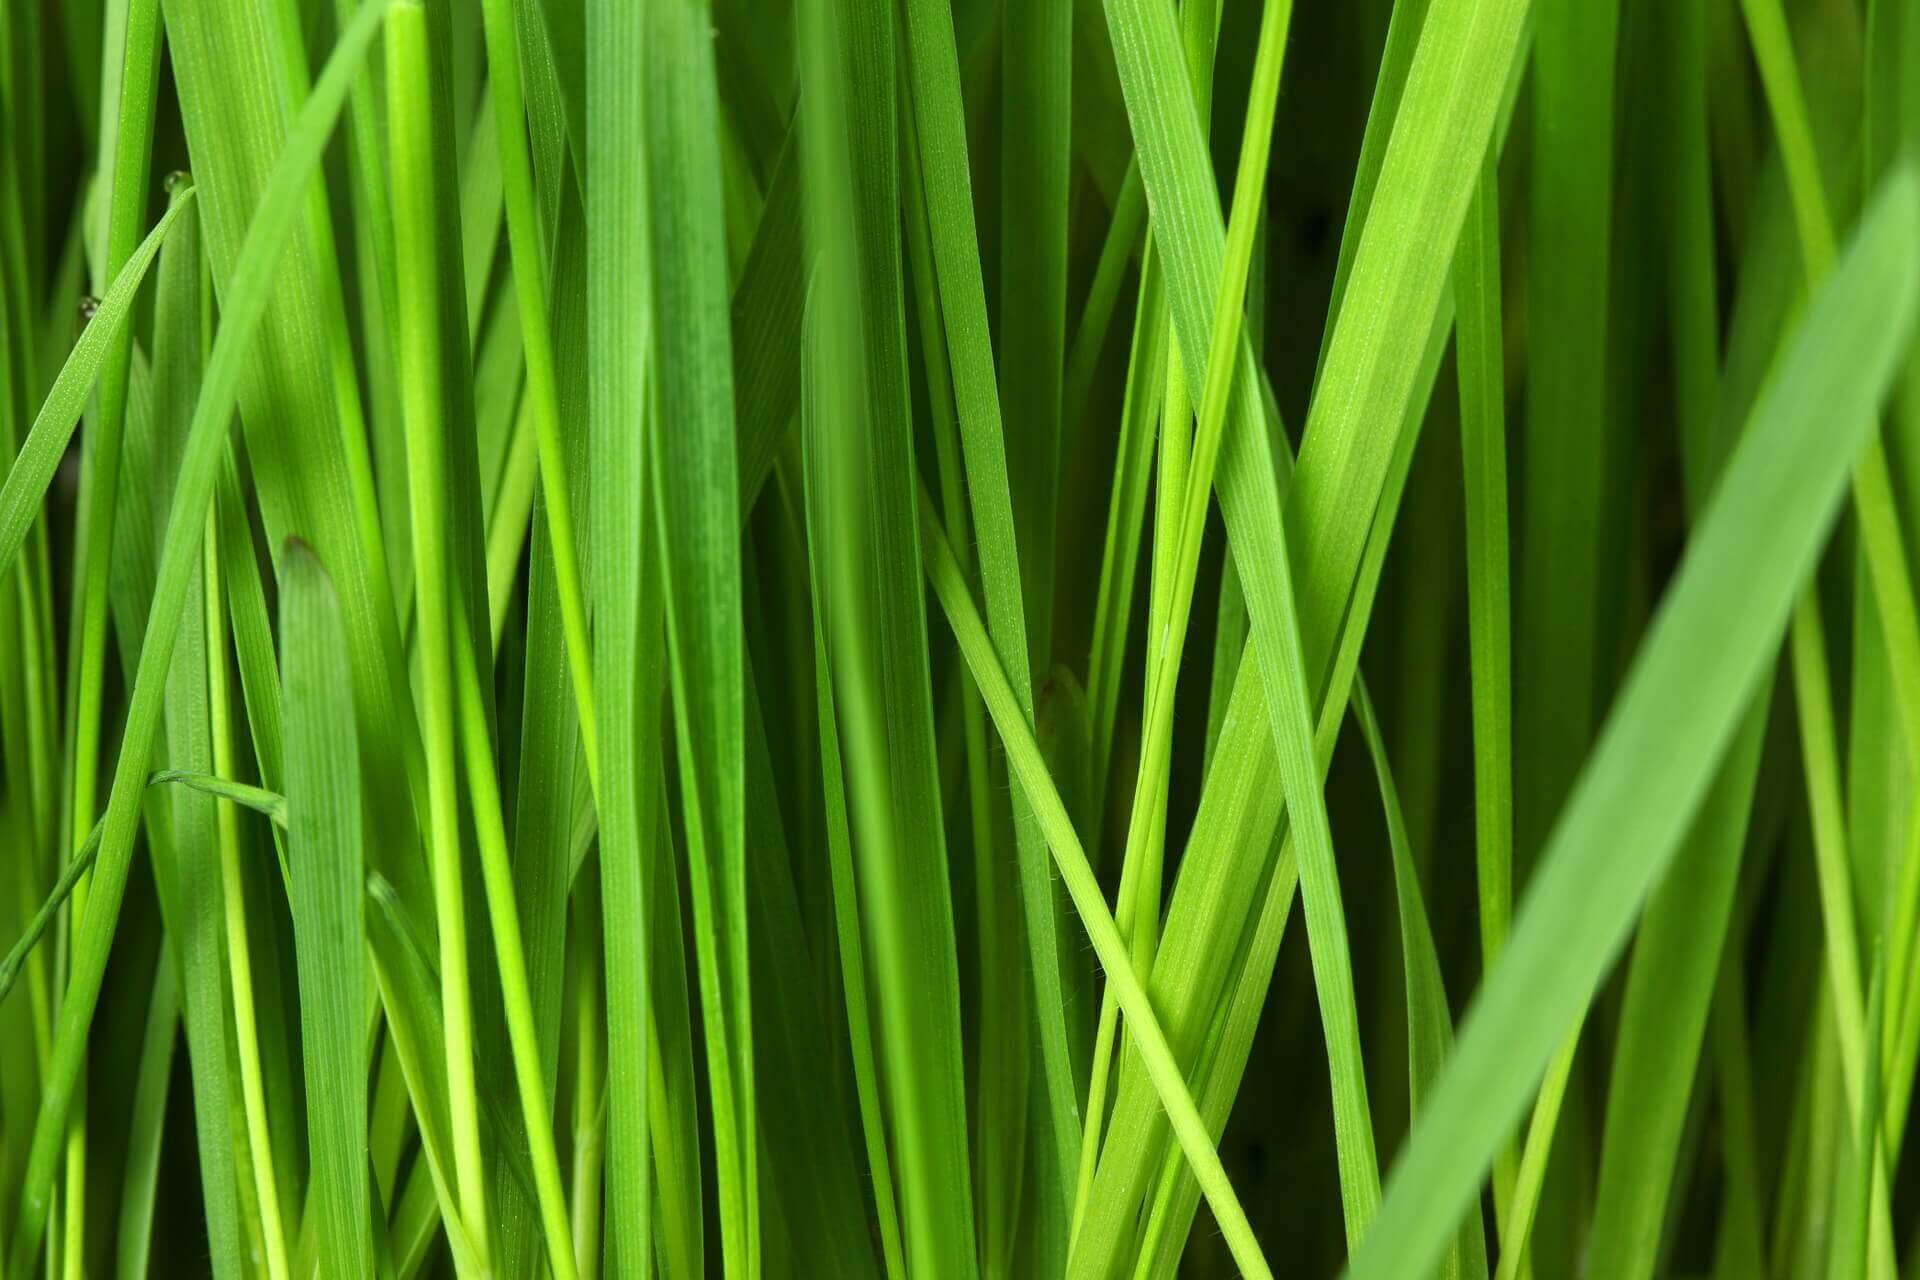grass: (1, 4, 1920, 1280)
